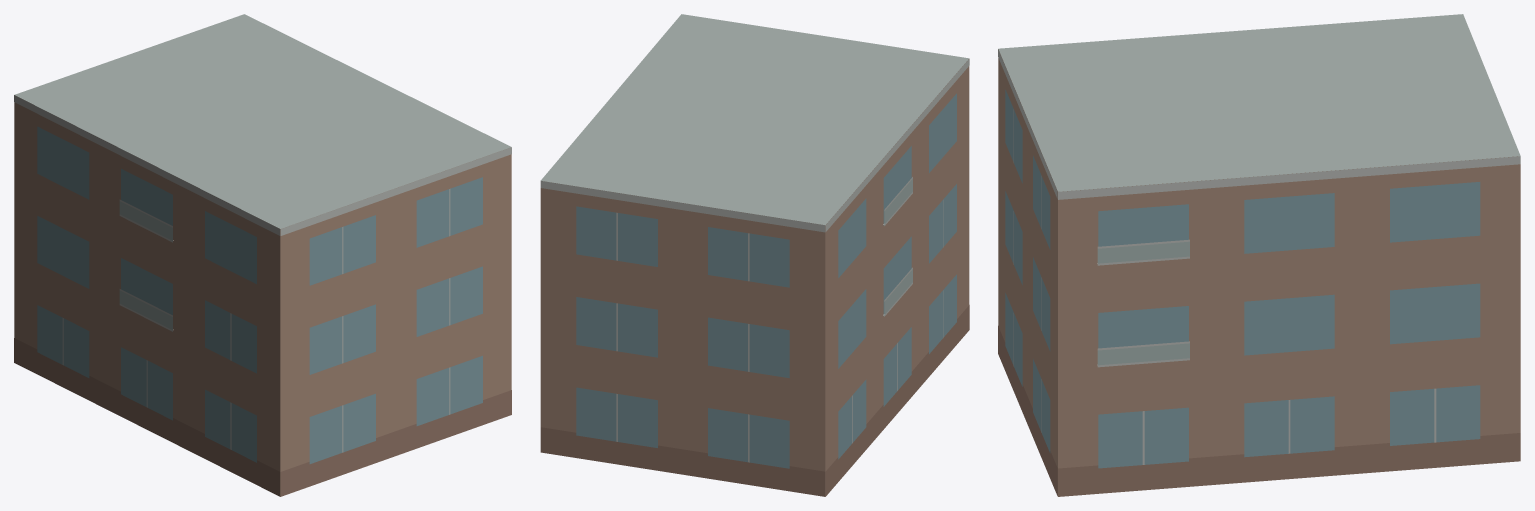
Rendered from survey-upis-32525301.glb.
3 renders of one model, left to right at view 1: azimuth 30°, elevation 25°; view 2: azimuth 150°, elevation 25°; view 3: azimuth 270°, elevation 25°, orthographic. The views are drawn at different scales.
Parts seen in each view (by area): view 1: survey-upis-32525301.tmp; view 2: survey-upis-32525301.tmp; view 3: survey-upis-32525301.tmp.
Part boxes in pixels (box(x1,y1,x2,y2)): survey-upis-32525301.tmp: box(14, 14, 511, 496); survey-upis-32525301.tmp: box(540, 14, 969, 496); survey-upis-32525301.tmp: box(998, 14, 1520, 496).
Bounding box in the file's own units: 11.45 × 9.15 × 14.22.
